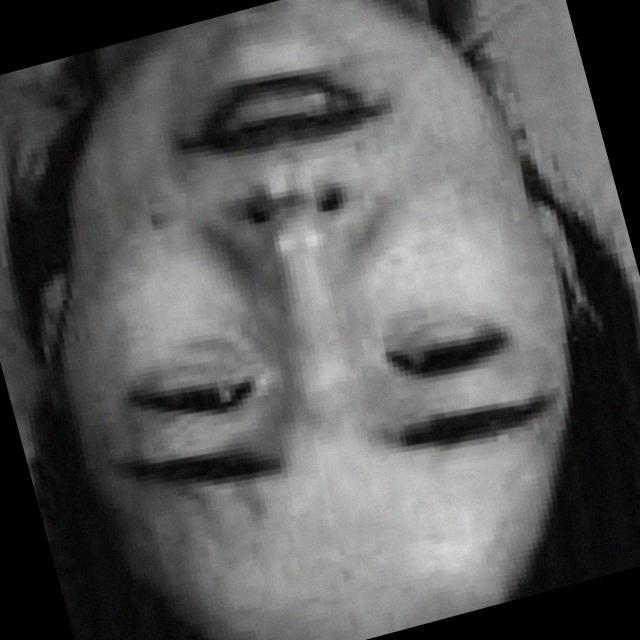sad: (4, 0, 603, 589)
